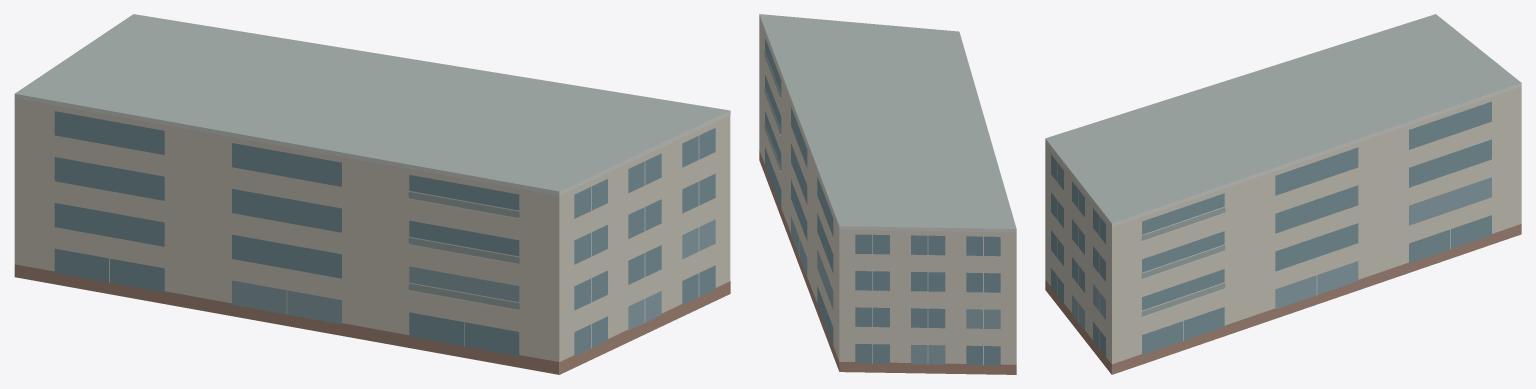
The model's file is survey-upis-32809273.glb.
3 renders of one model, left to right at view 1: azimuth 30°, elevation 25°; view 2: azimuth 150°, elevation 25°; view 3: azimuth 270°, elevation 25°, orthographic. The views are drawn at different scales.
Visible parts, largest first — view 1: survey-upis-32809273.tmp; view 2: survey-upis-32809273.tmp; view 3: survey-upis-32809273.tmp.
Boxes of the visible parts, x1,y1,x2,y2 form: survey-upis-32809273.tmp: (14,14,730,374); survey-upis-32809273.tmp: (759,14,1016,374); survey-upis-32809273.tmp: (1045,14,1521,374).
Bounding box in the file's own units: 30.26 × 10.2 × 29.09.
